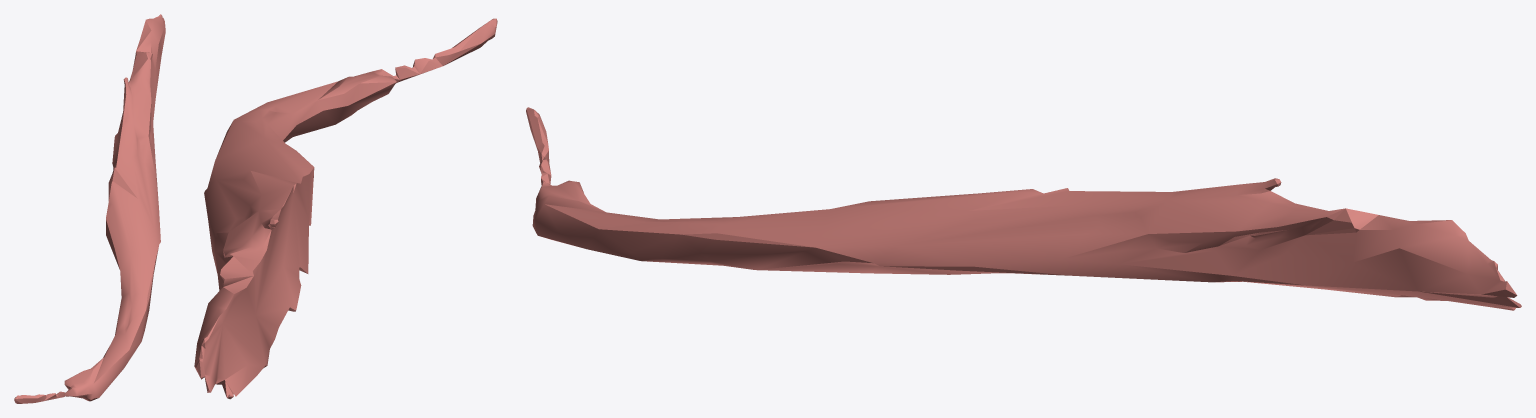
Rendered from fma37741_fj1388.glb.
The picture shows the model from 3 angles, left to right: view 1: azimuth 30°, elevation 25°; view 2: azimuth 210°, elevation 25°; view 3: azimuth 270°, elevation 25°; orthographic projection. The views are drawn at different scales.
Parts seen in each view (by area): view 1: FMA37741_FJ1388; view 2: FMA37741_FJ1388; view 3: FMA37741_FJ1388.
Part boxes in pixels (x1,y1,x2,y2): FMA37741_FJ1388: (14, 14, 165, 403); FMA37741_FJ1388: (194, 18, 497, 399); FMA37741_FJ1388: (526, 107, 1521, 310).
Size of the model in its own units: 0.0403 by 0.0141 by 0.044.
